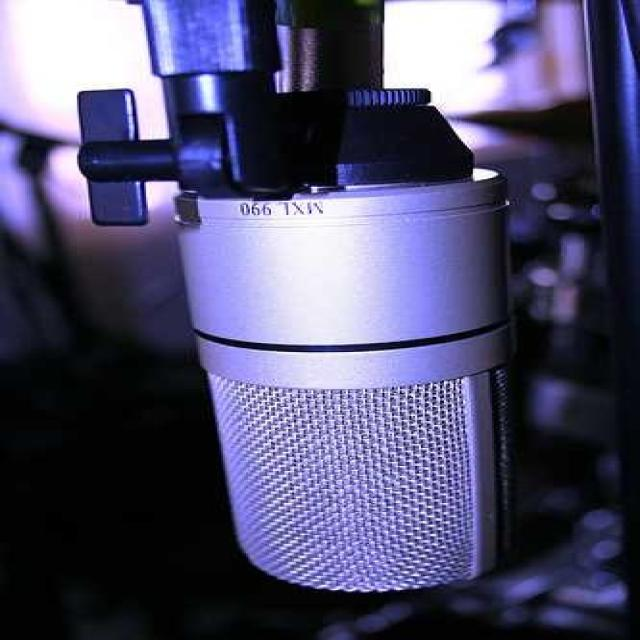microphone: (51, 67, 552, 597)
